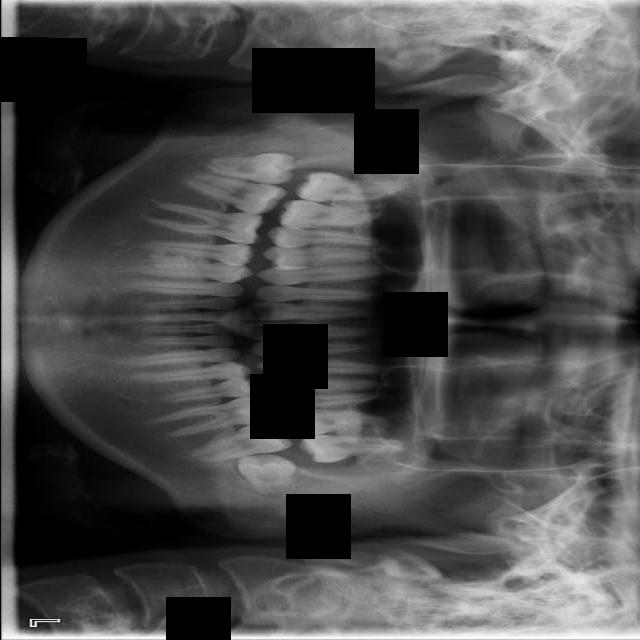73: (42, 624, 46, 628)
BioHorizons Implant: (285, 408, 414, 437)
BioLife Implant: (298, 434, 432, 467)
Biomet 3i Implant: (236, 451, 297, 496)
Blue Sky Bio Implant: (194, 417, 292, 466)
Caries: (292, 170, 408, 209)
Implant: (183, 170, 288, 221)
Keystone Dental Implant: (205, 152, 296, 188)
